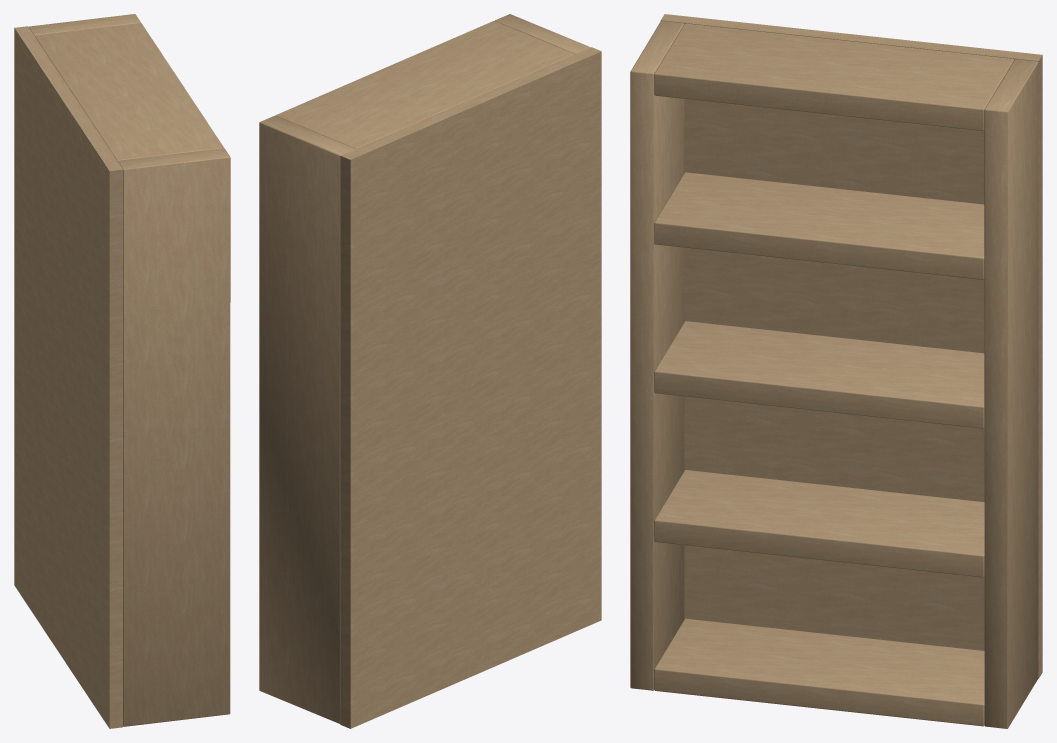
The model's file is shelter,red.glb.
3 renders of one model, left to right at view 1: azimuth 30°, elevation 25°; view 2: azimuth 150°, elevation 25°; view 3: azimuth 270°, elevation 25°, orthographic. The views are drawn at different scales.
Visible parts, largest first — view 1: classic_simple_shelf_n3d2; view 2: classic_simple_shelf_n3d2; view 3: classic_simple_shelf_n3d2.
Boxes of the visible parts, x1=… form: classic_simple_shelf_n3d2: x1=14, y1=14, x2=230, y2=728; classic_simple_shelf_n3d2: x1=259, y1=14, x2=601, y2=728; classic_simple_shelf_n3d2: x1=630, y1=14, x2=1042, y2=728.
Size of the model in its own units: 0.2307 by 0.6797 by 0.4112.
Materials: 1 (1 with a texture image).
